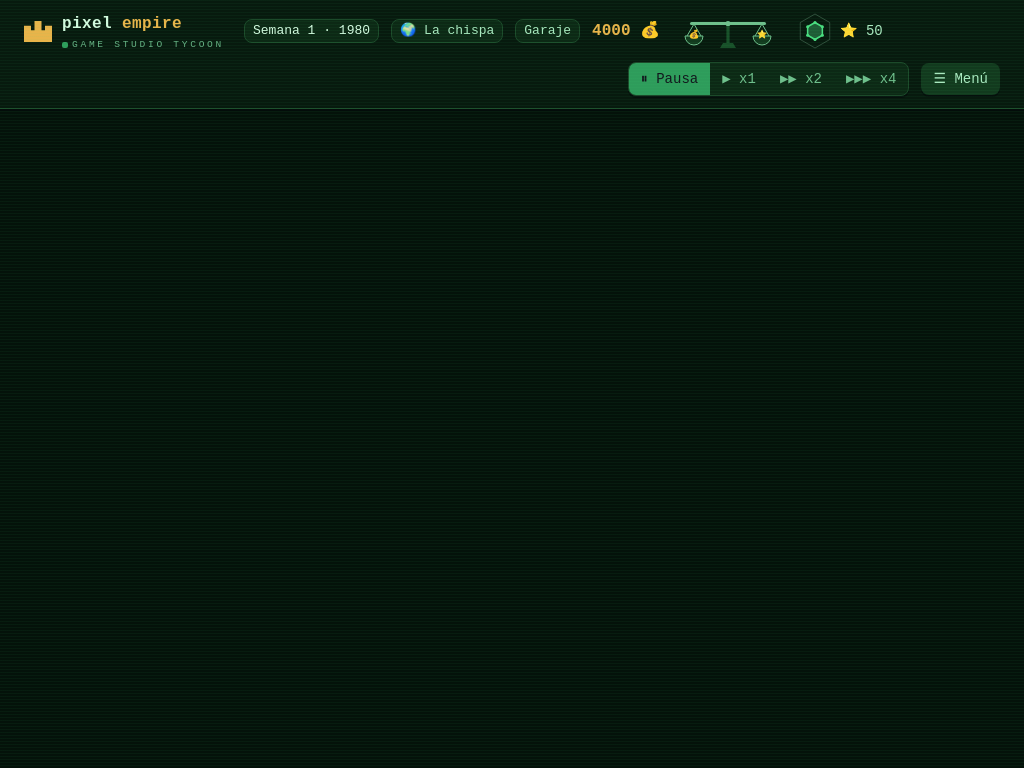
Test: App — la UI solo muestra estado y despacha acciones (docs/08 §6) › Fase 8.5 — pantalla principal limpia y creación en modal (docs/17 U2–U3) › la principal solo lista lo que aún se vende; el retirado vive en el menú
Expected: the text "Ya Retirado" is not shown
Click the button "☰ Menú".
click(961, 79)  # box [921, 63, 1000, 95]
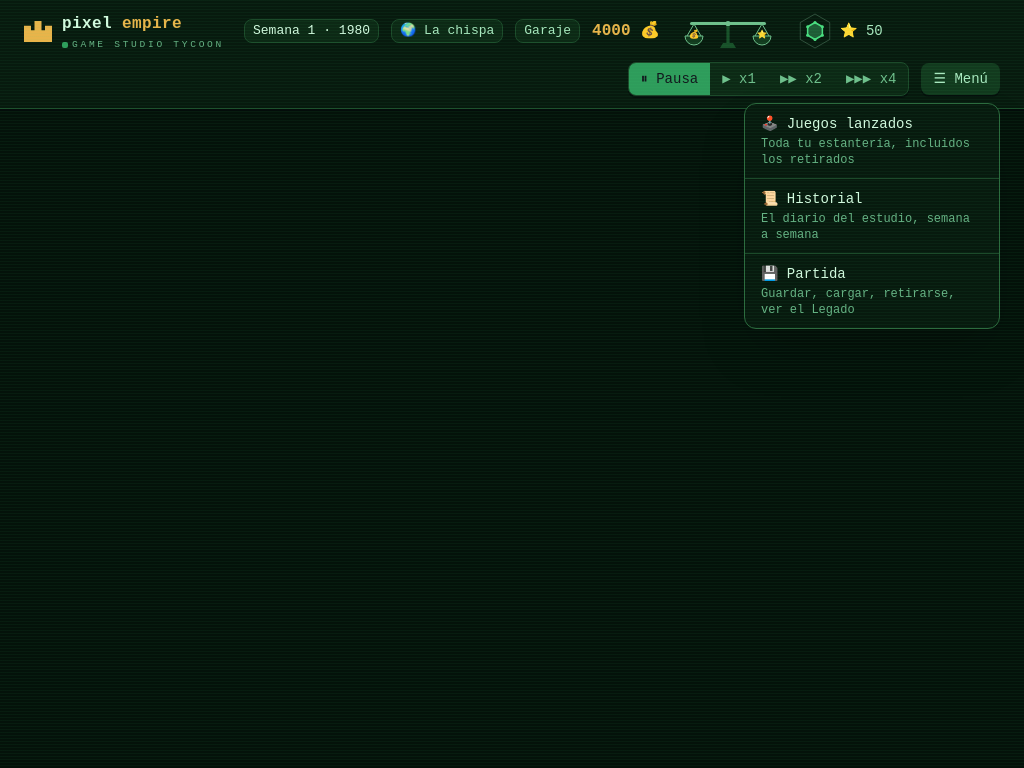
Click the menu item "🕹️ Juegos lanzados".
click(872, 142)  # box [745, 104, 999, 179]
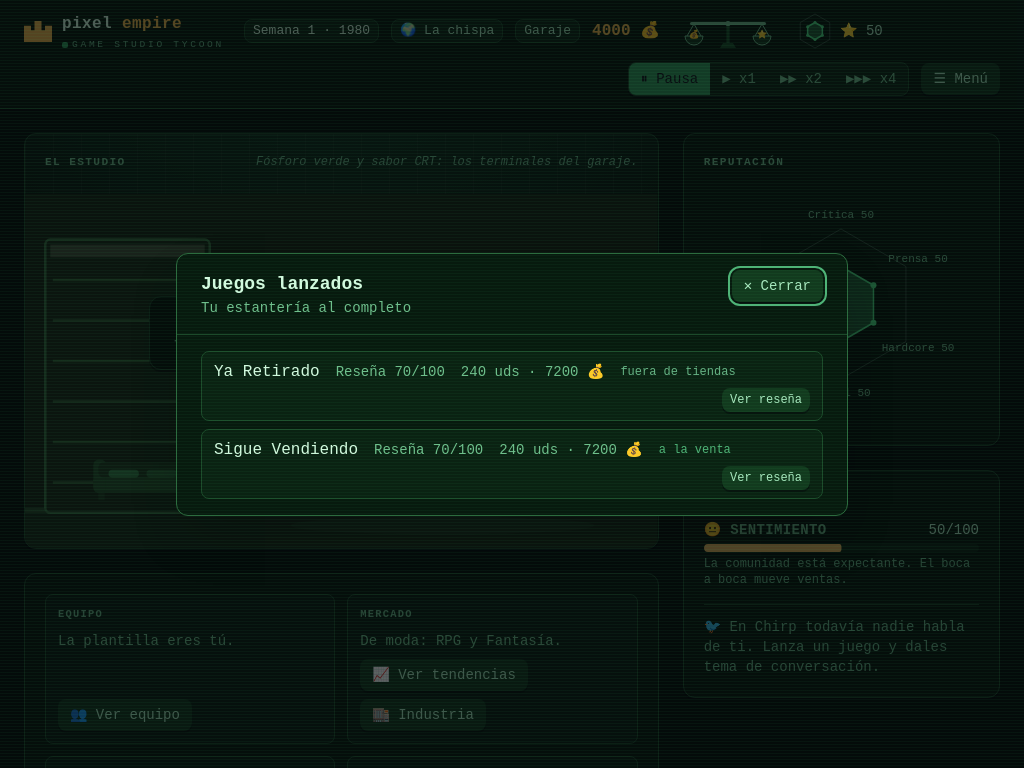
Result: the text "Ya Retirado" is shown at [214, 360, 320, 384]
Result: the text "fuera de tiendas" is shown at [620, 364, 736, 380]
